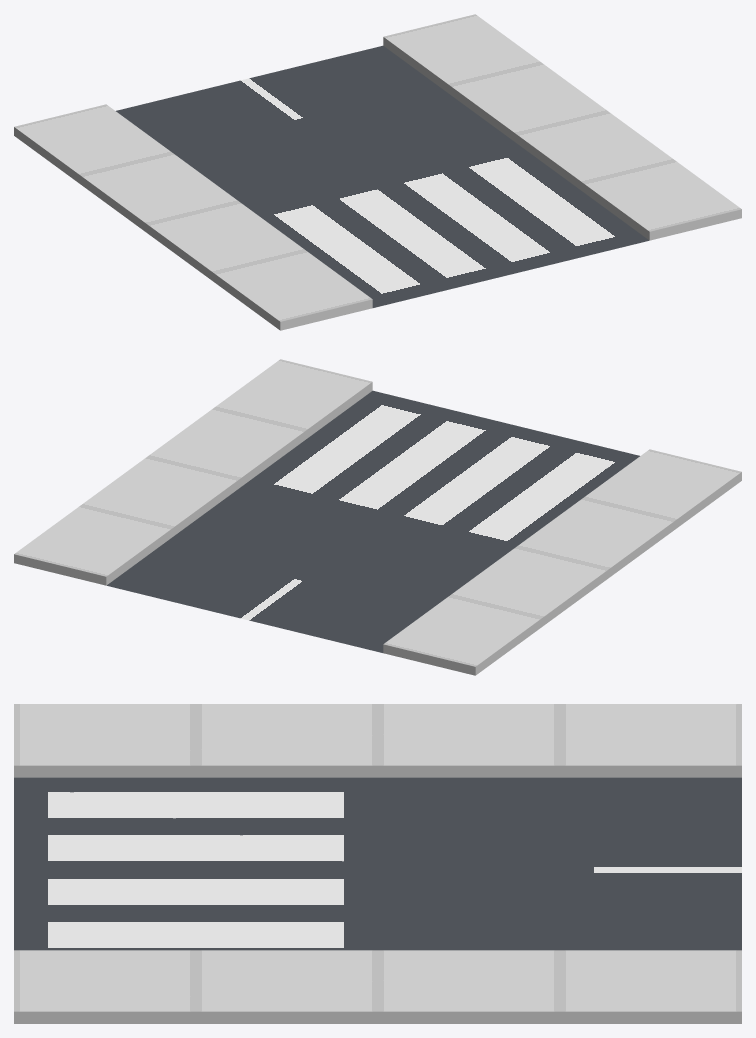
The model's file is road4.fbx.
3 renders of one model, top to bottom at view 1: azimuth 30°, elevation 25°; view 2: azimuth 150°, elevation 25°; view 3: azimuth 270°, elevation 25°, orthographic. The views are drawn at different scales.
Parts seen in each view (by area): view 1: road4; view 2: road4; view 3: road4.
Boxes of the visible parts, left/top/right/bottom form: road4: left=14, top=14, right=741, bottom=330; road4: left=14, top=359, right=741, bottom=675; road4: left=14, top=704, right=741, bottom=1023.
Bounding box in the file's own units: 1000 × 18.48 × 1000.
